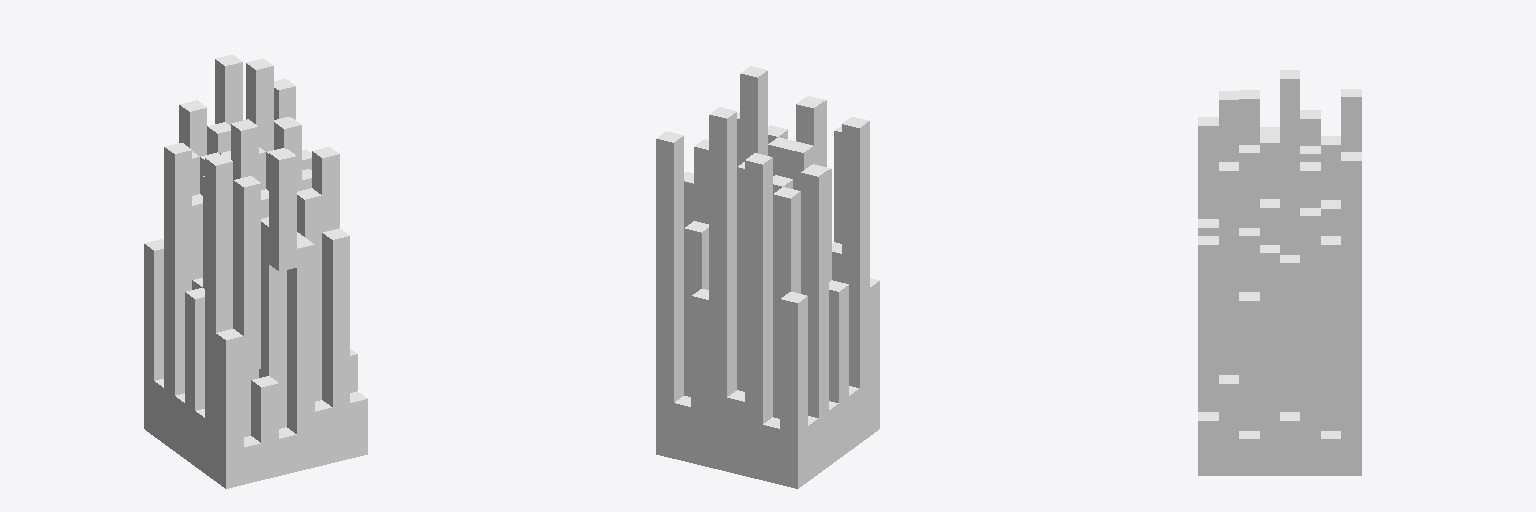
The model's file is grass-forest9.obj.
3 views of the same model, side by side, from view 1: azimuth 30°, elevation 25°; view 2: azimuth 150°, elevation 25°; view 3: azimuth 270°, elevation 25° (orthographic).
Visible parts, largest first — view 1: object 1; view 2: object 1; view 3: object 1.
Part boxes in pixels (left/top/right/bottom): object 1: left=144, top=55, right=367, bottom=488; object 1: left=656, top=66, right=879, bottom=488; object 1: left=1198, top=70, right=1361, bottom=475.
Bounding box in the file's own units: 0.8 × 2 × 0.8.